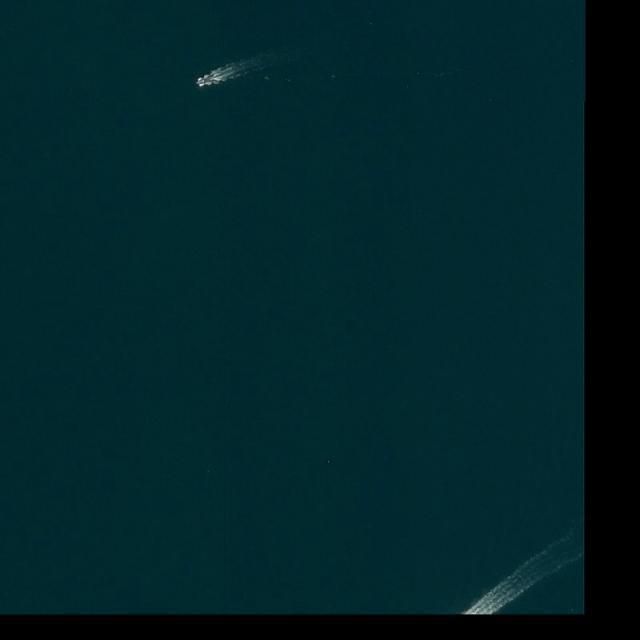ship: (194, 77, 211, 86)
